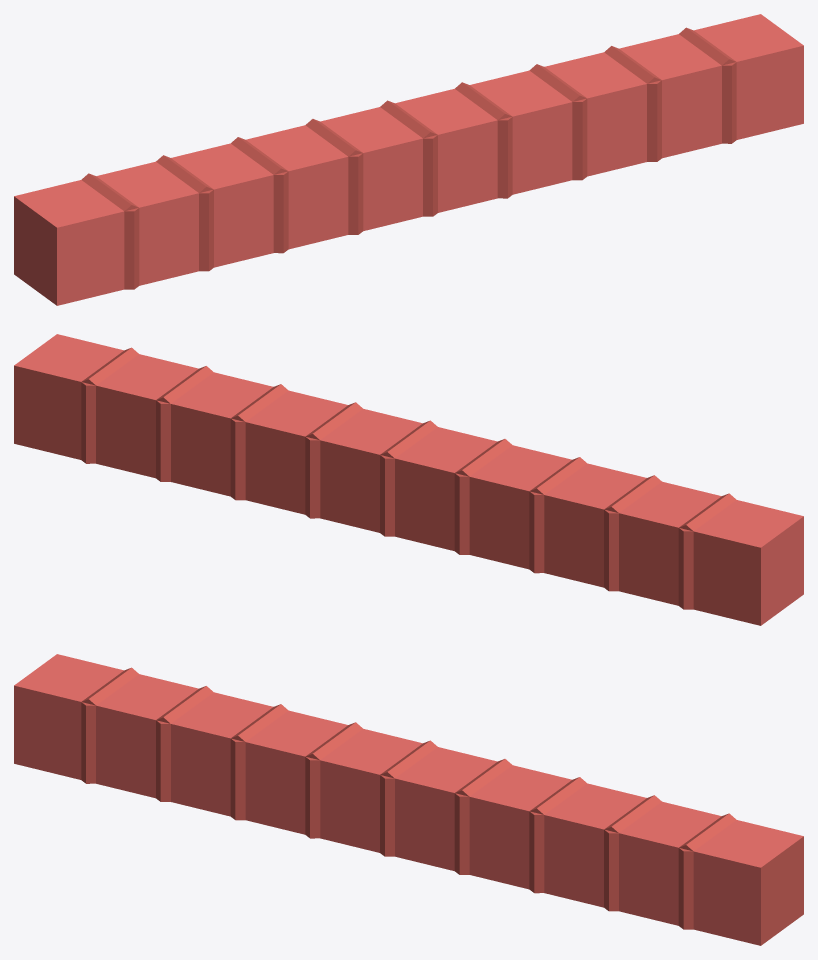
File: base10_rod.glb
The picture shows the model from 3 angles, top to bottom: view 1: azimuth 30°, elevation 25°; view 2: azimuth 150°, elevation 25°; view 3: azimuth 330°, elevation 25°; orthographic projection.
Parts seen in each view (by area): view 1: rod; view 2: rod; view 3: rod.
Boxes of the visible parts, bbox=[...] form: rod: bbox=[14, 14, 803, 305]; rod: bbox=[14, 334, 803, 625]; rod: bbox=[14, 654, 803, 945].
Bounding box in the file's own units: 0.1 × 0.0106 × 0.0112.
